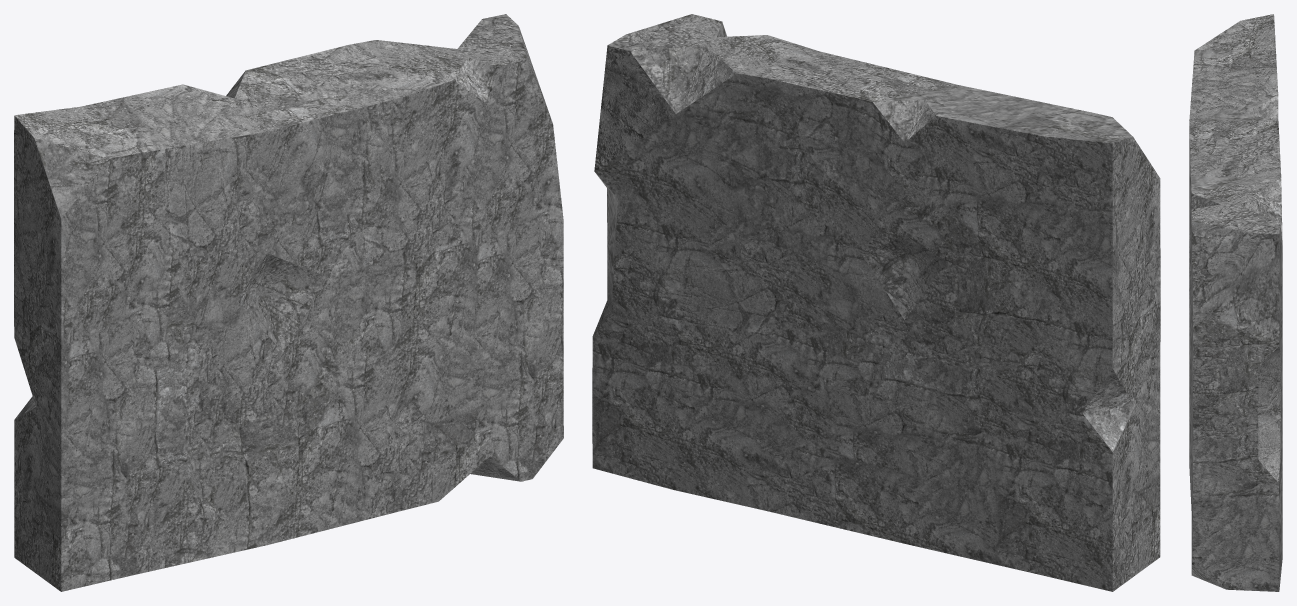
File: materials_3_wall_12.fbx
3 views of the same model, side by side, from view 1: azimuth 30°, elevation 25°; view 2: azimuth 150°, elevation 25°; view 3: azimuth 270°, elevation 25° (orthographic). The views are drawn at different scales.
Visible parts, largest first — view 1: materials_3_wall_12; view 2: materials_3_wall_12; view 3: materials_3_wall_12.
Part boxes in pixels (bbox=[...]): materials_3_wall_12: bbox=[14, 14, 563, 591]; materials_3_wall_12: bbox=[592, 14, 1160, 591]; materials_3_wall_12: bbox=[1189, 14, 1282, 591].
Size of the model in its own units: 231 by 192 by 43.82.
